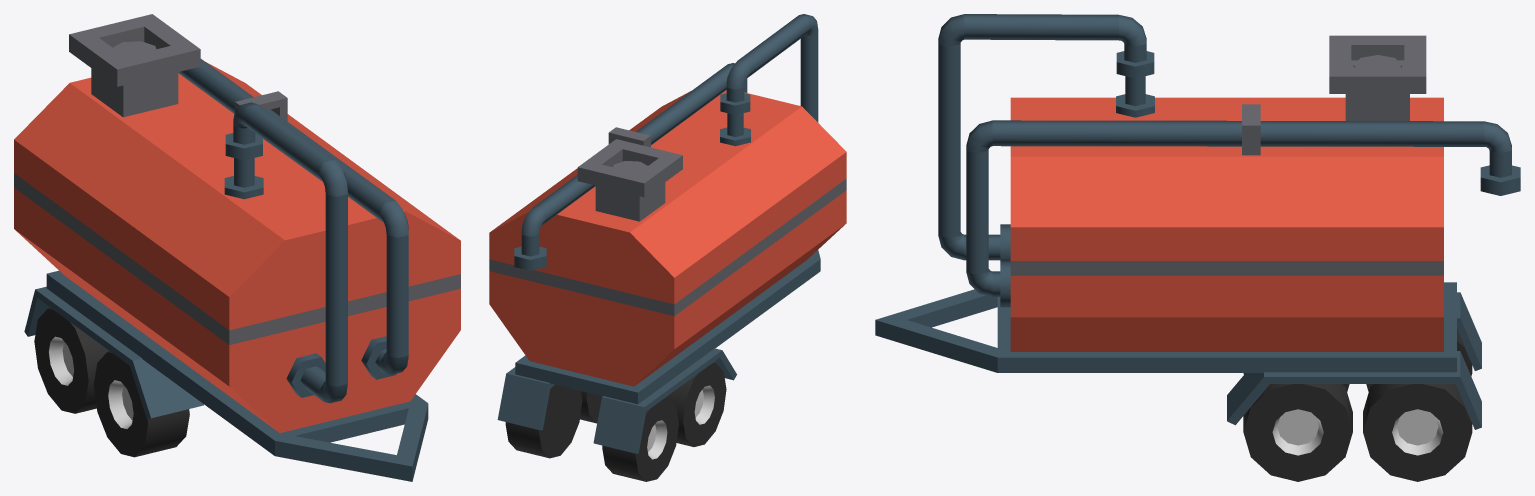
The model's file is Agricultural_Machine_3.fbx.
The picture shows the model from 3 angles, left to right: view 1: azimuth 30°, elevation 25°; view 2: azimuth 150°, elevation 25°; view 3: azimuth 270°, elevation 25°; orthographic projection. The views are drawn at different scales.
Visible parts, largest first — view 1: Agricultural_Machine_3; view 2: Agricultural_Machine_3; view 3: Agricultural_Machine_3.
Boxes of the visible parts, <box> form: Agricultural_Machine_3: <box>14,14,460,481</box>; Agricultural_Machine_3: <box>489,14,846,481</box>; Agricultural_Machine_3: <box>875,14,1520,481</box>.
Bounding box in the file's own units: 80.02 × 133 × 192.
